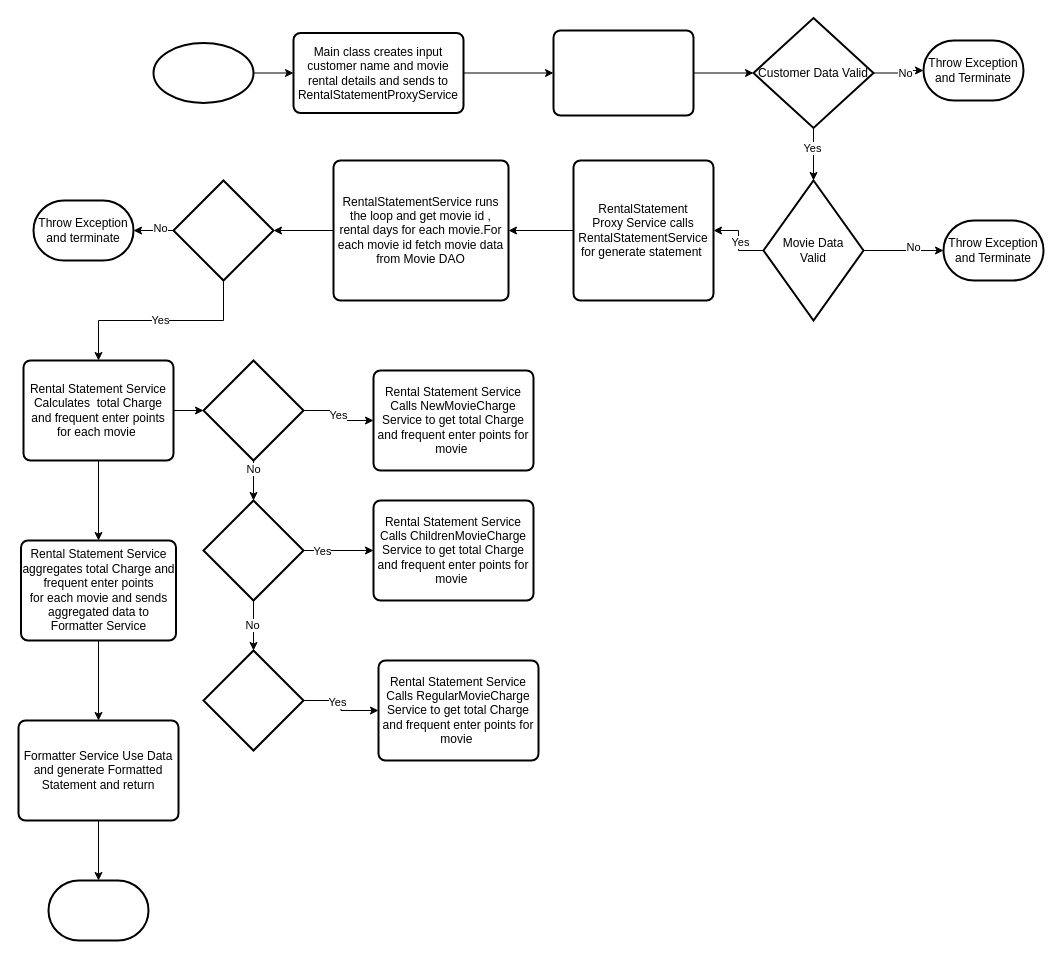
Image size: 1061x959. Some labels were removed from this diagram. Each missing label, with the centre of its shape:
"Flow Terminated" goes at pixel 98 910.
"Is Children" goes at pixel 253 550.
"Is New" goes at pixel 253 410.
"Is Regular" goes at pixel 253 700.
"Movie in our DB" goes at pixel 223 230.
"RentalStatementProxy Service Validates the data provided by main class" goes at pixel 623 72.
"Start" goes at pixel 203 73.
